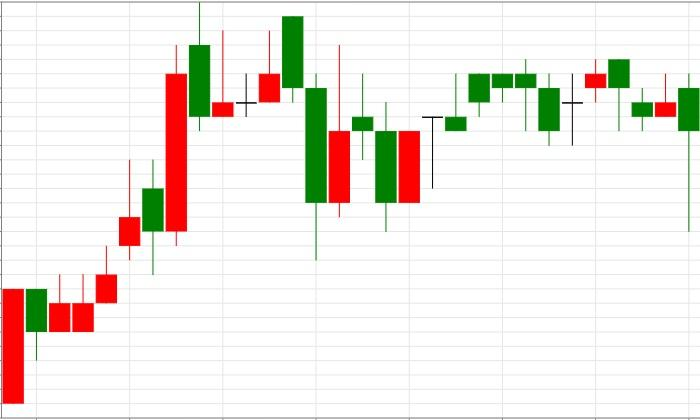bearish_engulfing_fall: (538, 59, 630, 146)
shooting_star_fall: (26, 160, 141, 361)
